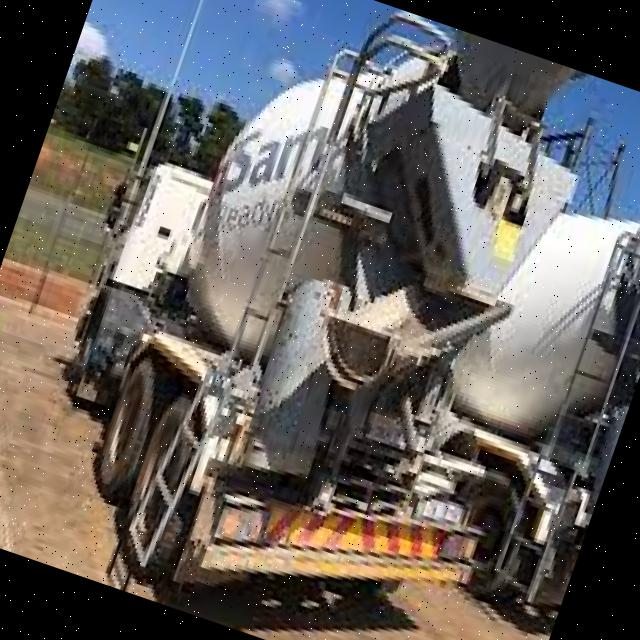Mixer Truck: (0, 0, 635, 640), (374, 137, 640, 629)
